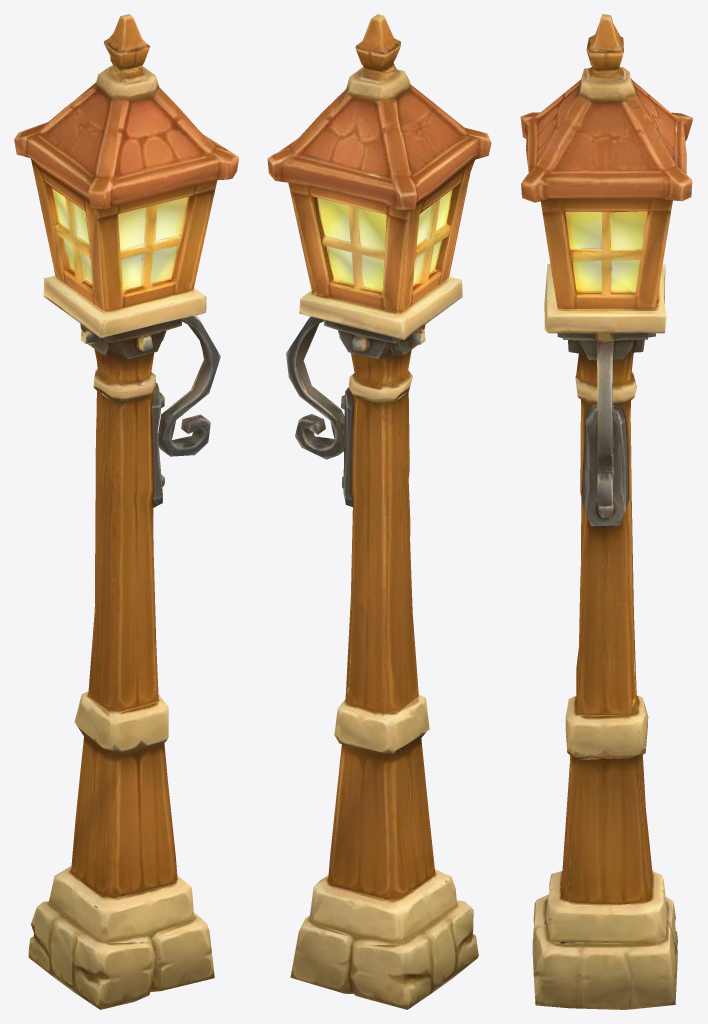
Rendered from lantern-post.glb.
3 renders of one model, left to right at view 1: azimuth 30°, elevation 25°; view 2: azimuth 150°, elevation 25°; view 3: azimuth 270°, elevation 25°, orthographic.
Parts seen in each view (by area): view 1: Mesh1.0; view 2: Mesh1.0; view 3: Mesh1.0.
Part boxes in pixels (x1,y1,x2,y2): Mesh1.0: [14, 14, 238, 1009]; Mesh1.0: [267, 14, 491, 1009]; Mesh1.0: [520, 14, 693, 1009].
Size of the model in its own units: 0.3431 by 1.89 by 0.3069.
Materials: 1 (1 with a texture image).
